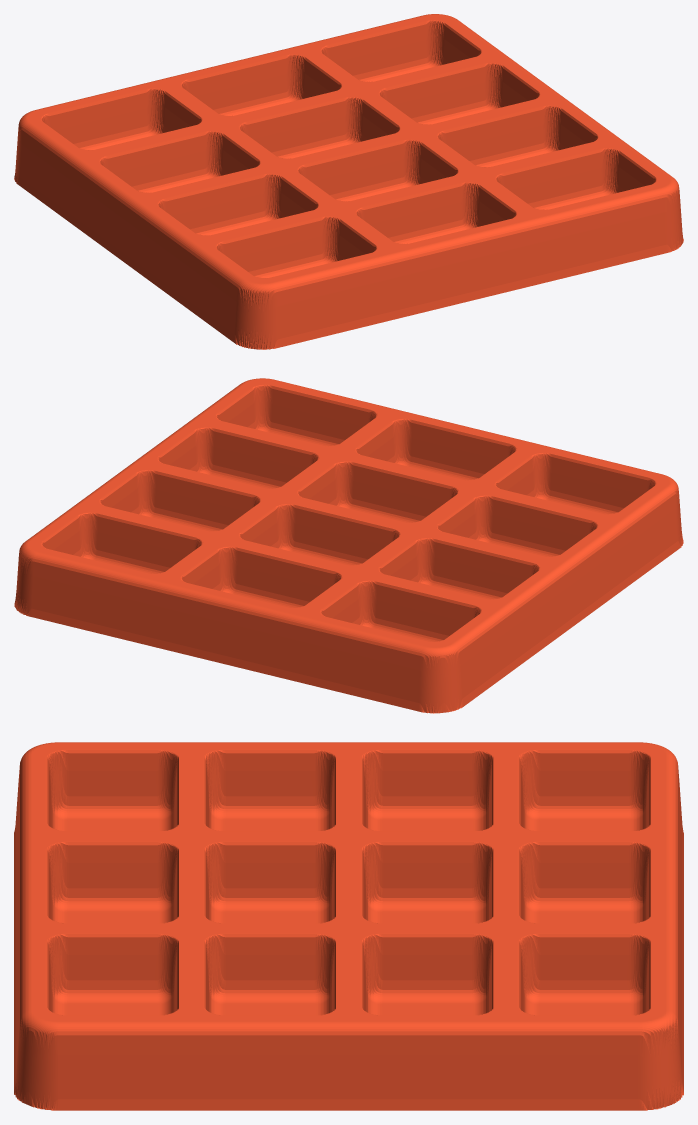
The model's file is mold.glb.
3 renders of one model, top to bottom at view 1: azimuth 30°, elevation 25°; view 2: azimuth 150°, elevation 25°; view 3: azimuth 270°, elevation 25°, orthographic. The views are drawn at different scales.
Visible parts, largest first — view 1: geometry_0; view 2: geometry_0; view 3: geometry_0.
Boxes of the visible parts, x1,y1,x2,y2 form: geometry_0: [14, 14, 683, 349]; geometry_0: [14, 378, 683, 713]; geometry_0: [14, 742, 683, 1110].
Bounding box in the file's own units: 0.141 × 0.0182 × 0.136.
